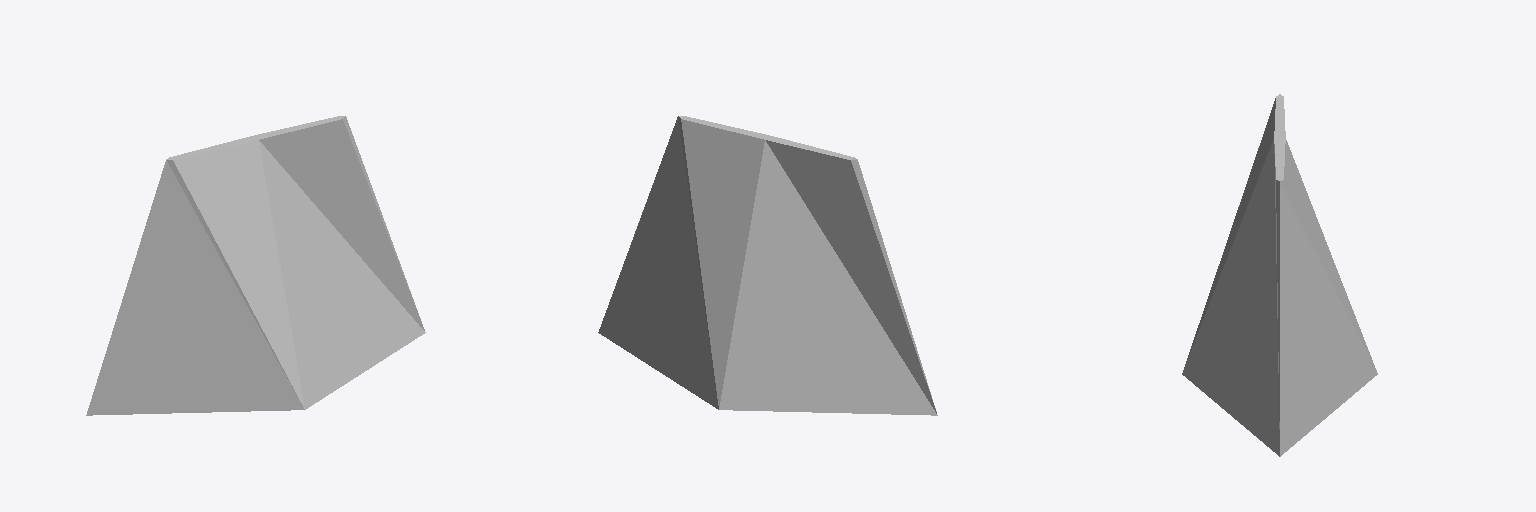
Rendered from Kickback.obj.
3 views of the same model, side by side, from view 1: azimuth 30°, elevation 25°; view 2: azimuth 150°, elevation 25°; view 3: azimuth 270°, elevation 25° (orthographic).
Parts seen in each view (by area): view 1: Cube; view 2: Cube; view 3: Cube.
Boxes of the visible parts, <box> form: Cube: <box>86,116,425,415</box>; Cube: <box>598,116,937,415</box>; Cube: <box>1182,94,1377,456</box>.
Size of the model in its own units: 1.41 by 0.9411 by 0.7071.